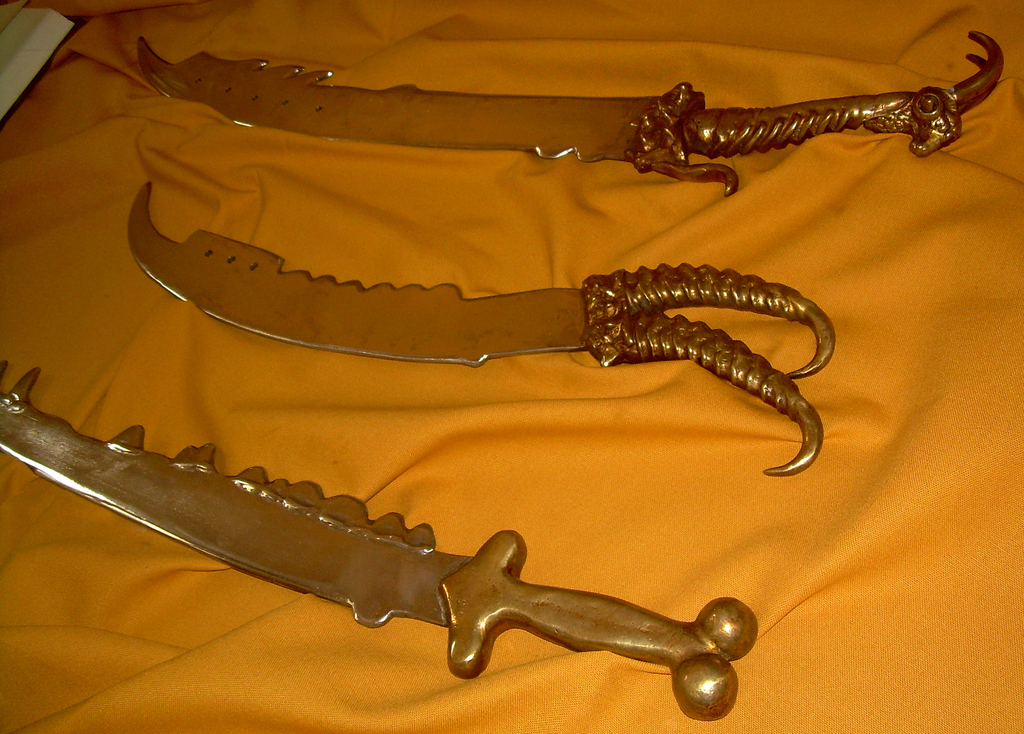knife: (0, 359, 757, 721), (127, 180, 834, 476), (137, 29, 1008, 196)
